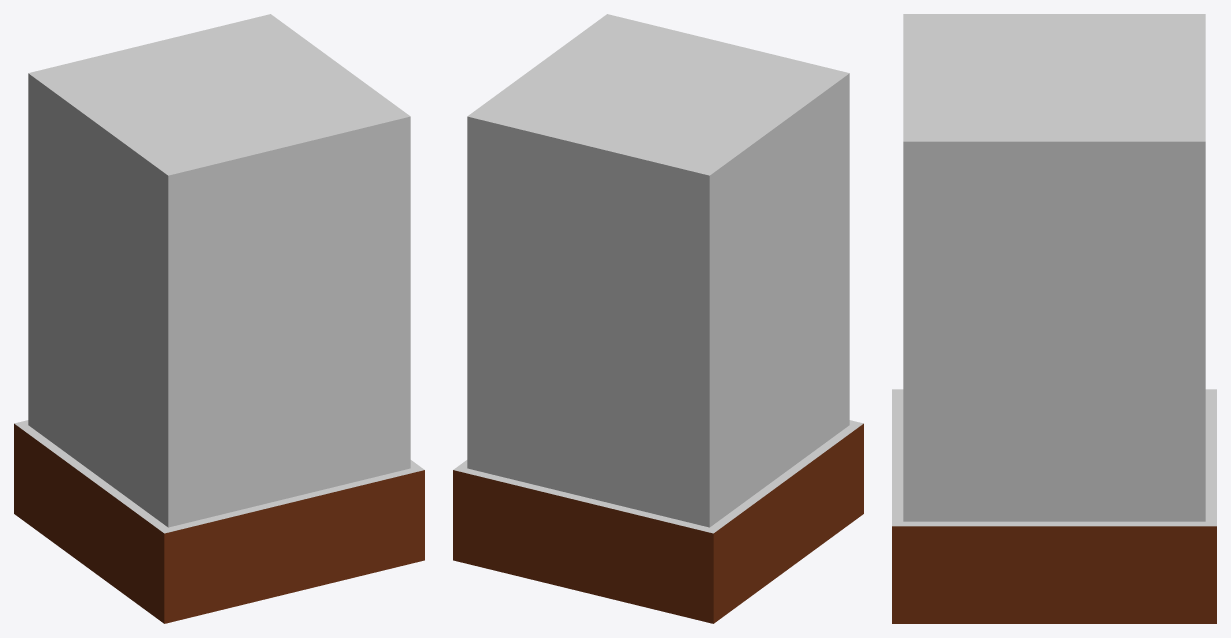
File: skullbox.glb
3 renders of one model, left to right at view 1: azimuth 30°, elevation 25°; view 2: azimuth 150°, elevation 25°; view 3: azimuth 270°, elevation 25°, orthographic. The views are drawn at different scales.
Visible parts, largest first — view 1: Cube; view 2: Cube; view 3: Cube.
Part boxes in pixels (<box>): Cube: <box>14,14,424,623</box>; Cube: <box>453,14,863,623</box>; Cube: <box>892,14,1216,623</box>.
Bounding box in the file's own units: 2.33 × 3.79 × 2.33.
